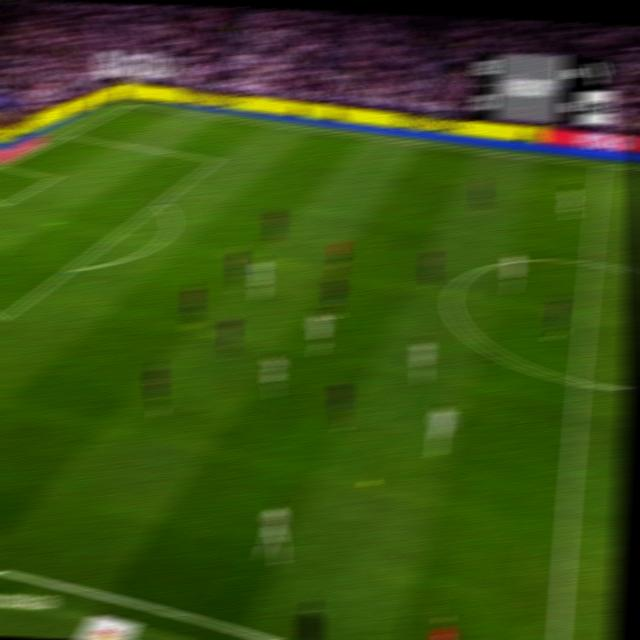bigarea_top_inner: (210, 151, 223, 167)
bottom_arc_area_intersection: (63, 260, 79, 277)
halfcircle_bottom: (570, 368, 589, 393)
halfcircle_top: (582, 251, 600, 273)
midline_top_intersection: (594, 158, 607, 172)
smallarea_top_inner: (47, 169, 61, 182)
top_arc_area_intersection: (152, 194, 167, 209)
